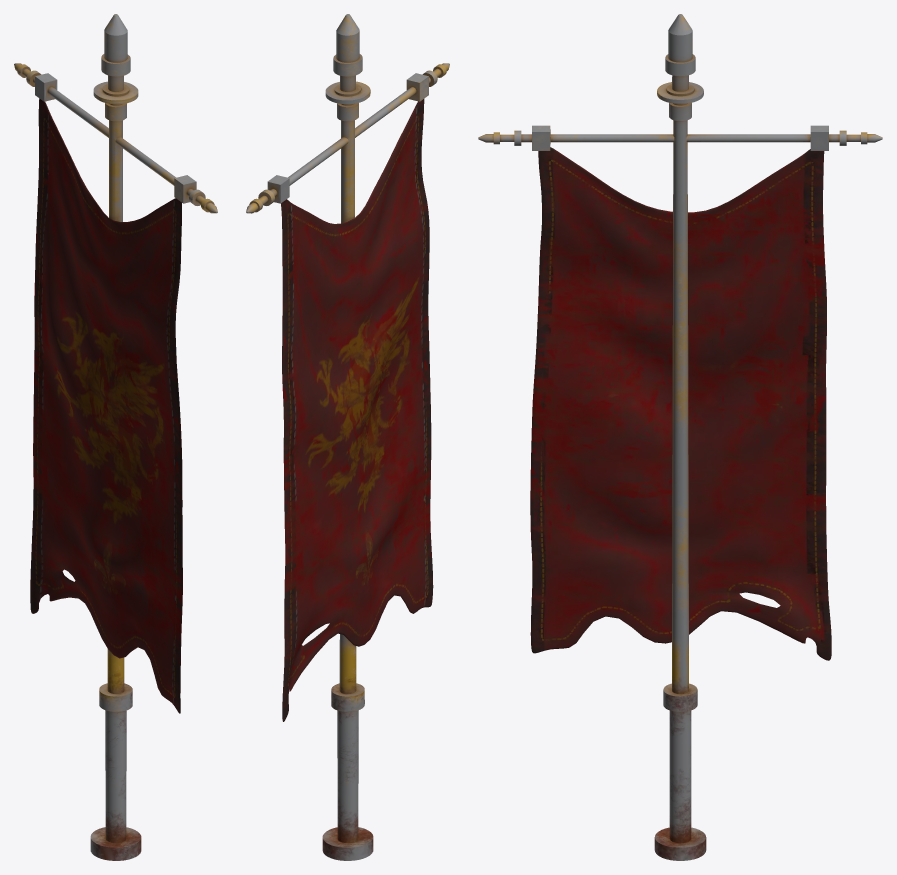
File: demacian-flag.glb
3 views of the same model, side by side, from view 1: azimuth 30°, elevation 25°; view 2: azimuth 150°, elevation 25°; view 3: azimuth 270°, elevation 25° (orthographic).
Visible parts, largest first — view 1: Plane.004_flag_0, Cylinder.004_pole_0; view 2: Plane.004_flag_0, Cylinder.004_pole_0; view 3: Plane.004_flag_0, Cylinder.004_pole_0.
Boxes of the visible parts, x1,y1,x2,y2 form: Plane.004_flag_0: [30, 98, 182, 713]; Cylinder.004_pole_0: [14, 14, 217, 860]; Plane.004_flag_0: [281, 99, 433, 721]; Cylinder.004_pole_0: [246, 14, 449, 860]; Plane.004_flag_0: [530, 147, 831, 660]; Cylinder.004_pole_0: [478, 14, 882, 860].
Size of the model in its own units: 0.3663 by 6.7 by 2.94.
2 materials, 2 textured.
